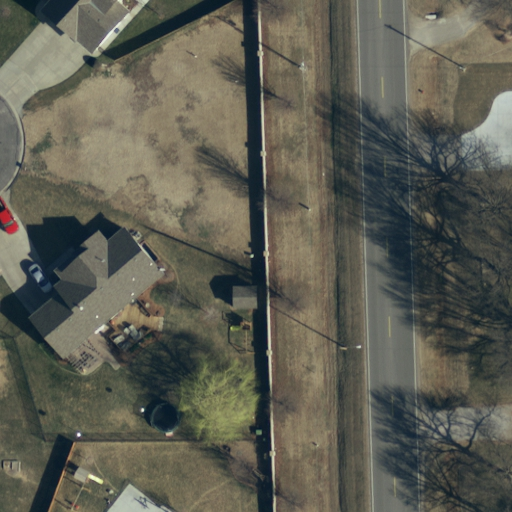DT: (288, 53, 317, 78), (447, 57, 476, 82)
